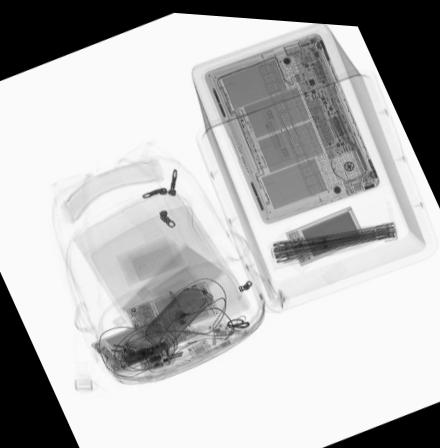Powerbank: (286, 199, 368, 261)
